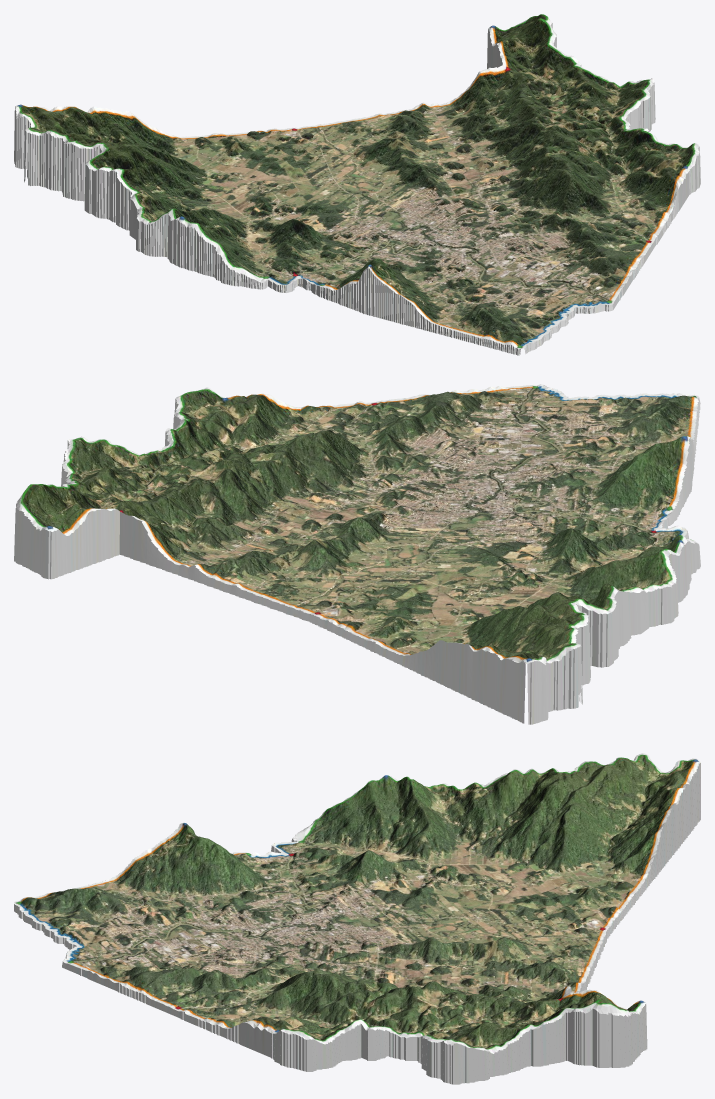
3 renders of one model, top to bottom at view 1: azimuth 30°, elevation 25°; view 2: azimuth 150°, elevation 25°; view 3: azimuth 270°, elevation 25°, orthographic. The views are drawn at different scales.
Size of the model in its own units: 1 by 0.1051 by 1.05.
Materials: 1 (1 with a texture image).
